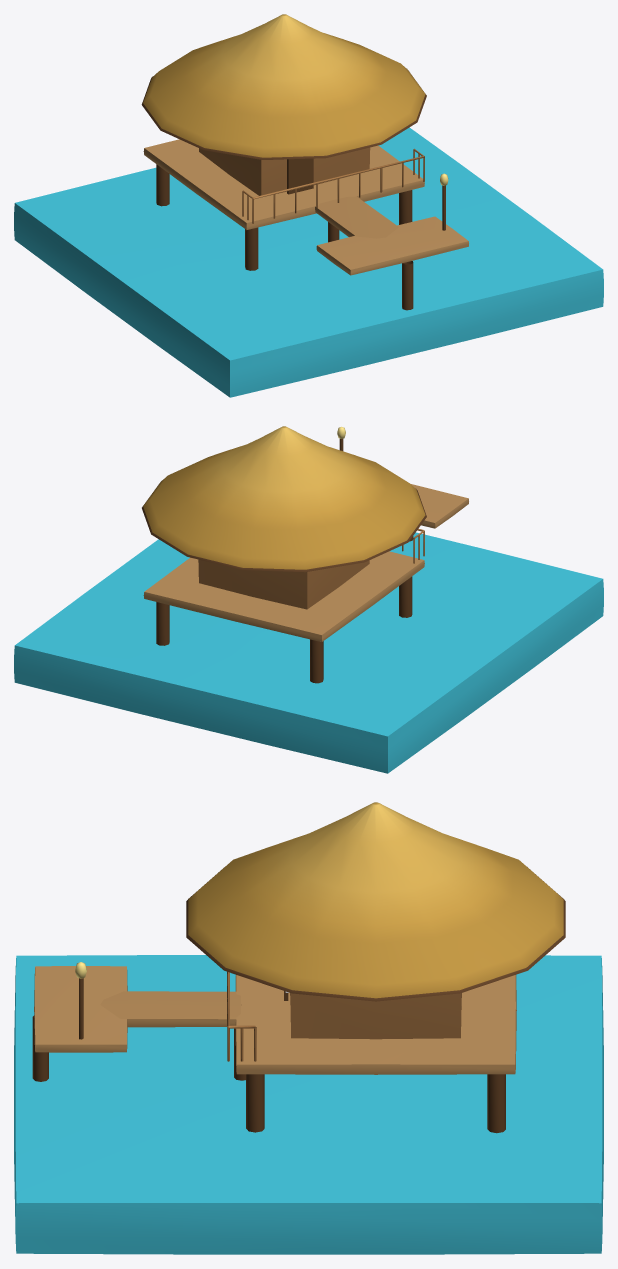
File: OverwaterBungalow_L2.obj
The picture shows the model from 3 angles, top to bottom: view 1: azimuth 30°, elevation 25°; view 2: azimuth 150°, elevation 25°; view 3: azimuth 270°, elevation 25°; orthographic projection. The views are drawn at different scales.
Visible parts, largest first — view 1: OverwaterBungalow_L2; view 2: OverwaterBungalow_L2; view 3: OverwaterBungalow_L2.
Part boxes in pixels (x1,y1,x2,y2): OverwaterBungalow_L2: (14, 14, 603, 397); OverwaterBungalow_L2: (14, 426, 603, 773); OverwaterBungalow_L2: (14, 802, 603, 1254).
Bounding box in the file's own units: 4.4 × 2.7 × 4.4.
1 material, 1 textured.
